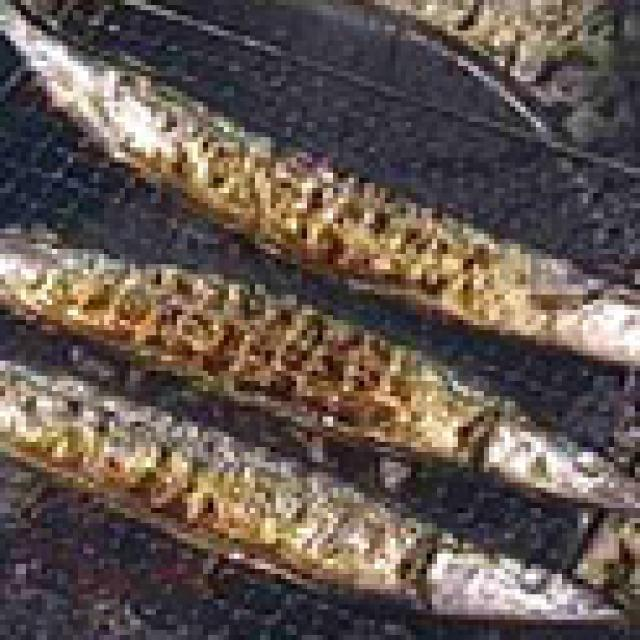grilled-pacific-saury-: (0, 56, 635, 635)
